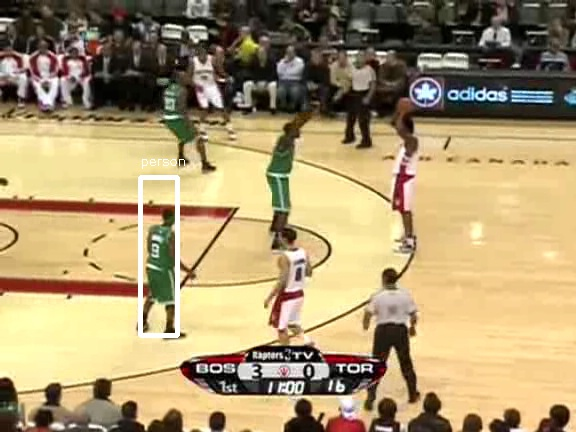person: (144, 228, 178, 309), (143, 228, 177, 309), (145, 228, 179, 309), (144, 227, 178, 308), (144, 229, 178, 310)
target_negative: (92, 52, 466, 108), (362, 156, 410, 298), (85, 389, 568, 399), (254, 266, 576, 280), (355, 192, 380, 230), (535, 218, 539, 420)
